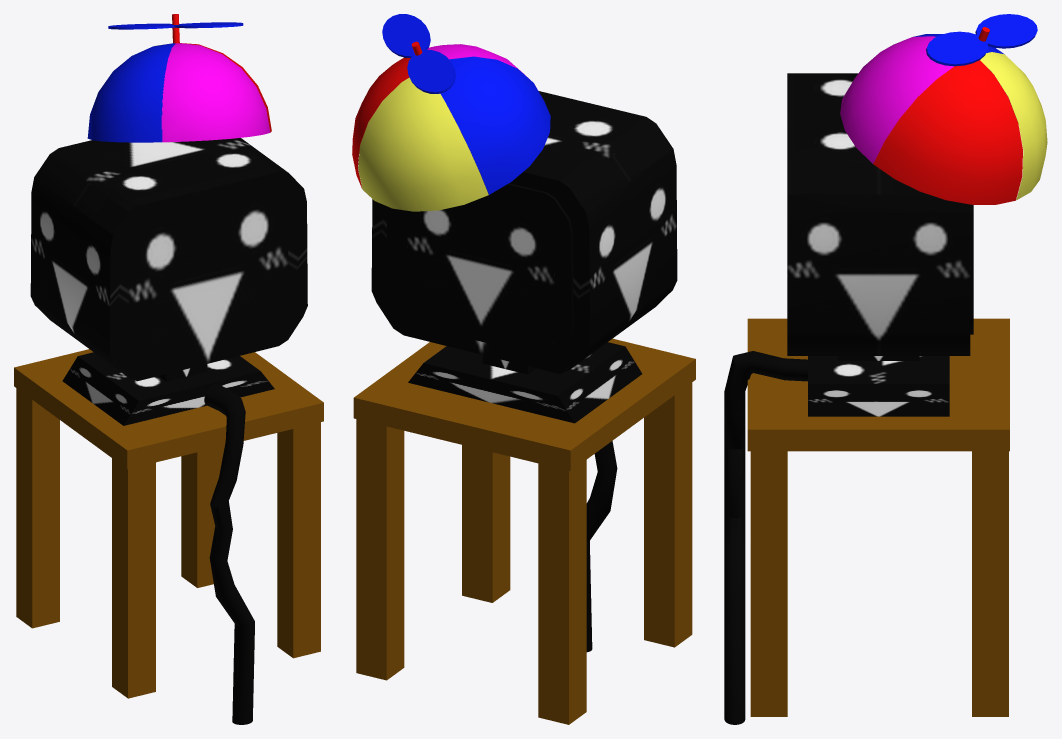
File: objetoMiedo2.glb
3 views of the same model, side by side, from view 1: azimuth 30°, elevation 25°; view 2: azimuth 150°, elevation 25°; view 3: azimuth 270°, elevation 25° (orthographic). The views are drawn at different scales.
Visible parts, largest first — view 1: Body, hat; view 2: Body, hat, head; view 3: Body, hat.
Part boxes in pixels (box(x1,y1,x2,y2)): Body: box(14, 138, 323, 724); hat: box(87, 14, 271, 142); Body: box(353, 91, 695, 724); hat: box(352, 14, 550, 211); head: box(407, 195, 554, 344); Body: box(724, 73, 1009, 724); hat: box(840, 14, 1047, 204).
Bounding box in the file's own units: 1.35 × 3.69 × 1.51.
Materials: 8 (2 with a texture image).
